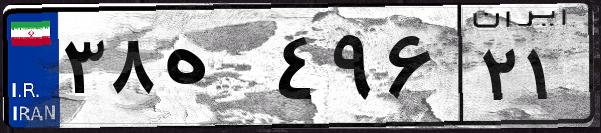1: (525, 38, 570, 115)
2: (475, 38, 525, 113)
3: (57, 26, 110, 100)
4: (270, 28, 330, 110)
6: (385, 28, 445, 110)
8: (110, 28, 158, 98)
9: (330, 28, 385, 110)
ه: (158, 20, 270, 120)
